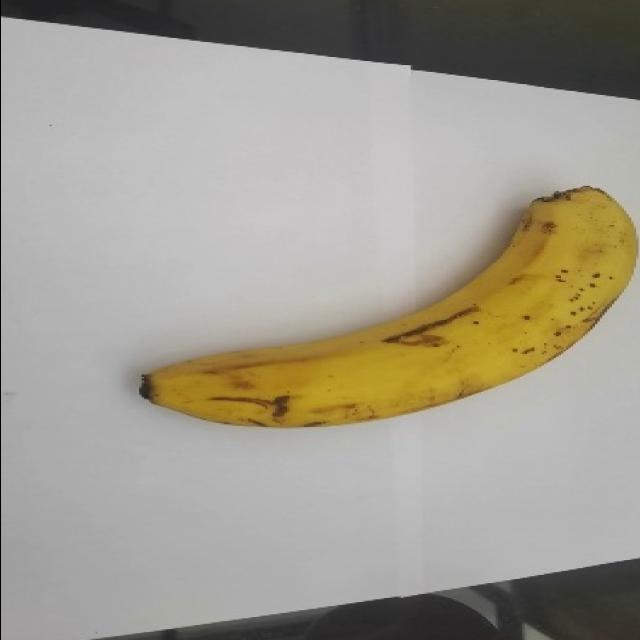Banana: (130, 185, 632, 433)
